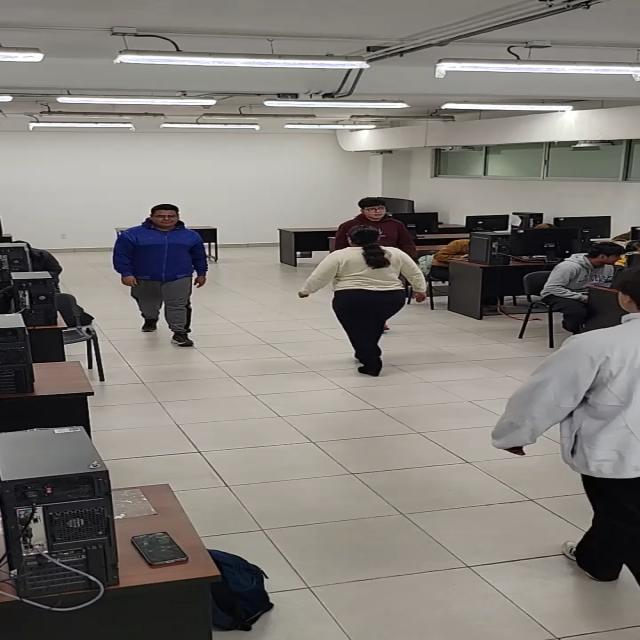Persona: (529, 280, 640, 561), (313, 223, 427, 376), (112, 203, 206, 349), (348, 198, 413, 247)
